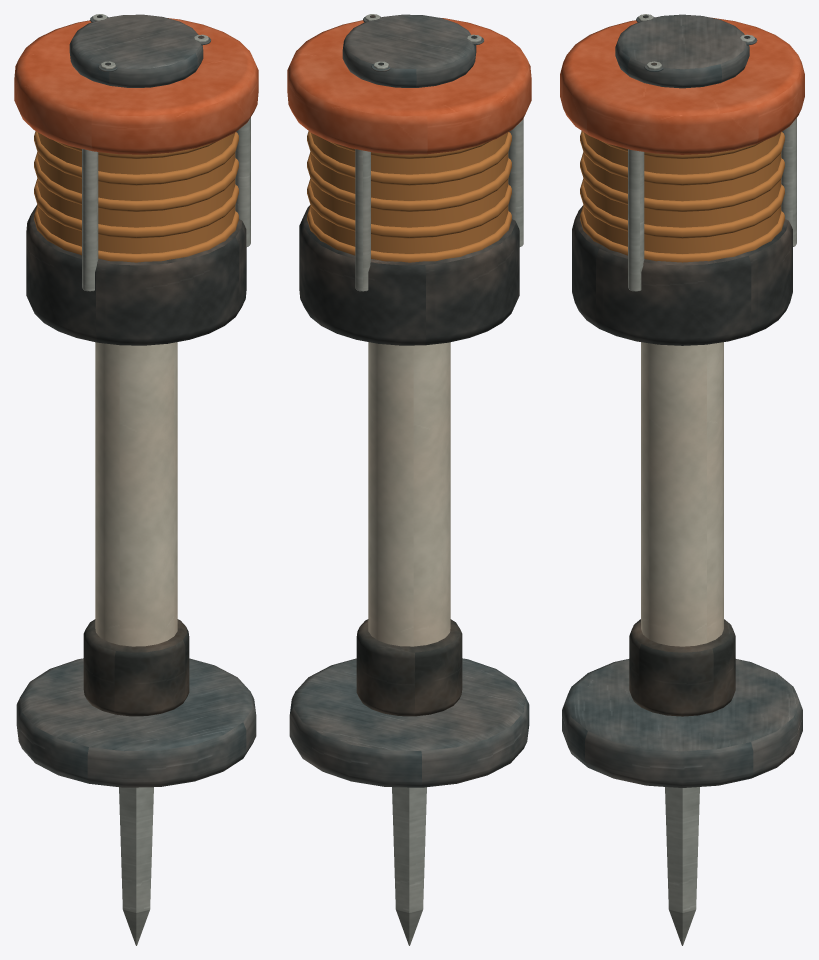
The model's file is pad_corner_marker.glb.
The picture shows the model from 3 angles, left to right: view 1: azimuth 30°, elevation 25°; view 2: azimuth 150°, elevation 25°; view 3: azimuth 270°, elevation 25°; orthographic projection.
Visible parts, largest first — view 1: Reflector_post_rover_white, Depth_stop_plate_dark_alloy, Gasketed_beacon_lid_orange, Optic_protection_skirt_graphite, Lamp, Sacrificial_striker_plate_dark_alloy, Lower_bung_black_rubber, Driven_anchor_spike_satin_steel, Lens_prism_lamp_amber.002, Lens_prism_lamp_amber.001, Lens_prism_lamp_amber.003, Lamp_crush_guard_satin_steel.001 (+3 smaller); view 2: Reflector_post_rover_white, Depth_stop_plate_dark_alloy, Gasketed_beacon_lid_orange, Optic_protection_skirt_graphite, Lamp, Sacrificial_striker_plate_dark_alloy, Lower_bung_black_rubber, Driven_anchor_spike_satin_steel, Lens_prism_lamp_amber.002, Lens_prism_lamp_amber.001, Lens_prism_lamp_amber.003, Lamp_crush_guard_satin_steel.002 (+3 smaller); view 3: Reflector_post_rover_white, Depth_stop_plate_dark_alloy, Gasketed_beacon_lid_orange, Optic_protection_skirt_graphite, Lamp, Sacrificial_striker_plate_dark_alloy, Lower_bung_black_rubber, Driven_anchor_spike_satin_steel, Lens_prism_lamp_amber.002, Lens_prism_lamp_amber.001, Lens_prism_lamp_amber.003, Lamp_crush_guard_satin_steel (+3 smaller).
Boxes of the visible parts, x1,y1,x2,y2 form: Reflector_post_rover_white: (95, 342, 177, 646); Depth_stop_plate_dark_alloy: (16, 658, 256, 787); Gasketed_beacon_lid_orange: (14, 18, 258, 154); Optic_protection_skirt_graphite: (26, 204, 246, 345); Lamp: (37, 132, 235, 253); Sacrificial_striker_plate_dark_alloy: (69, 14, 203, 87); Lower_bung_black_rubber: (83, 619, 189, 716); Driven_anchor_spike_satin_steel: (119, 787, 153, 945); Lens_prism_lamp_amber.002: (34, 152, 238, 211); Lens_prism_lamp_amber.001: (34, 178, 238, 238); Lens_prism_lamp_amber.003: (34, 131, 238, 185); Lamp_crush_guard_satin_steel.001: (82, 149, 98, 291); Reflector_post_rover_white: (368, 342, 450, 646); Depth_stop_plate_dark_alloy: (289, 658, 529, 787); Gasketed_beacon_lid_orange: (287, 18, 531, 154); Optic_protection_skirt_graphite: (299, 205, 519, 345); Lamp: (310, 132, 508, 253); Sacrificial_striker_plate_dark_alloy: (342, 14, 476, 87); Lower_bung_black_rubber: (356, 619, 462, 716); Driven_anchor_spike_satin_steel: (392, 787, 426, 945); Lens_prism_lamp_amber.002: (307, 152, 511, 211); Lens_prism_lamp_amber.001: (307, 178, 511, 238); Lens_prism_lamp_amber.003: (307, 131, 511, 185); Lamp_crush_guard_satin_steel.002: (355, 149, 370, 291); Reflector_post_rover_white: (641, 342, 723, 646); Depth_stop_plate_dark_alloy: (562, 659, 802, 787); Gasketed_beacon_lid_orange: (560, 17, 804, 154); Optic_protection_skirt_graphite: (572, 206, 792, 345); Lamp: (583, 132, 781, 253); Sacrificial_striker_plate_dark_alloy: (615, 14, 749, 88); Lower_bung_black_rubber: (629, 619, 735, 716); Driven_anchor_spike_satin_steel: (665, 787, 699, 945); Lens_prism_lamp_amber.002: (580, 152, 784, 211); Lens_prism_lamp_amber.001: (580, 178, 784, 238); Lens_prism_lamp_amber.003: (580, 131, 784, 185); Lamp_crush_guard_satin_steel: (628, 149, 644, 291).
Bounding box in the file's own units: 0.124 × 0.507 × 0.124.
7 materials, 6 textured.
